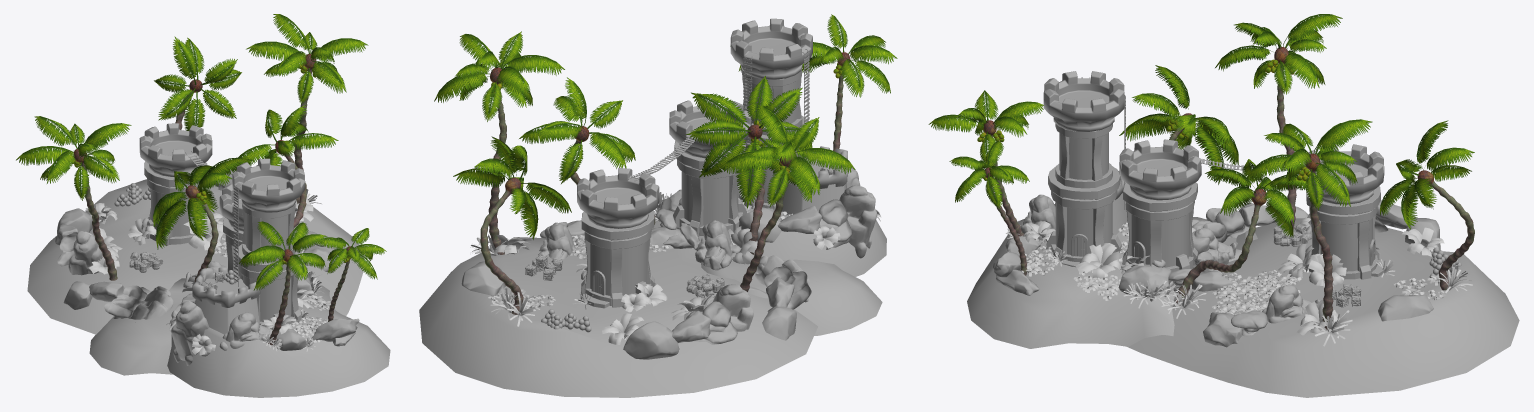
File: island_3.fbx
3 renders of one model, left to right at view 1: azimuth 30°, elevation 25°; view 2: azimuth 150°, elevation 25°; view 3: azimuth 270°, elevation 25°, orthographic. The views are drawn at different scales.
Parts seen in each view (by area): view 1: polySurface222, polySurface221, PalmTree1, polySurface228, polySurface229, PalmTree11, PalmTree10, PalmTree6, PalmTree7, polySurface230, PalmTree9, polySurface213 (+6 smaller); view 2: polySurface221, polySurface222, polySurface228, PalmTree6, polySurface226, PalmTree1, PalmTree11, polySurface229, PalmTree10, polySurface213, PalmTree9, PalmTree7 (+14 smaller); view 3: polySurface221, polySurface222, polySurface226, polySurface228, PalmTree11, PalmTree1, PalmTree10, PalmTree6, PalmTree9, PalmTree7, PalmTree8, polySurface230 (+11 smaller).
Boxes of the visible parts, x1,y1,x2,y2 form: polySurface222: [167, 158, 390, 397]; polySurface221: [27, 179, 364, 334]; PalmTree1: [16, 116, 131, 280]; polySurface228: [139, 123, 212, 245]; polySurface229: [89, 278, 192, 375]; PalmTree11: [246, 14, 368, 203]; PalmTree10: [154, 36, 241, 130]; PalmTree6: [153, 157, 252, 281]; PalmTree7: [239, 221, 327, 345]; polySurface230: [63, 281, 173, 322]; PalmTree9: [234, 105, 338, 228]; polySurface213: [55, 208, 102, 275]; polySurface221: [419, 227, 817, 397]; polySurface222: [653, 18, 886, 276]; polySurface228: [577, 168, 659, 308]; PalmTree6: [686, 76, 808, 254]; polySurface226: [669, 97, 750, 236]; PalmTree1: [720, 105, 855, 291]; PalmTree11: [434, 31, 564, 254]; polySurface229: [701, 257, 882, 335]; PalmTree10: [453, 136, 571, 314]; polySurface213: [623, 284, 753, 359]; PalmTree9: [519, 77, 655, 224]; PalmTree7: [802, 14, 897, 151]; polySurface221: [1127, 218, 1519, 397]; polySurface222: [967, 71, 1174, 348]; polySurface226: [1119, 139, 1201, 272]; polySurface228: [1304, 144, 1386, 279]; PalmTree11: [1246, 119, 1372, 329]; PalmTree1: [1215, 14, 1342, 228]; PalmTree10: [1380, 120, 1474, 290]; PalmTree6: [1119, 65, 1238, 184]; PalmTree9: [1175, 159, 1307, 305]; PalmTree7: [928, 90, 1043, 236]; PalmTree8: [949, 141, 1029, 275]; polySurface230: [1192, 203, 1308, 242].
Bounding box in the file's own units: 2104 × 1390 × 2821.
